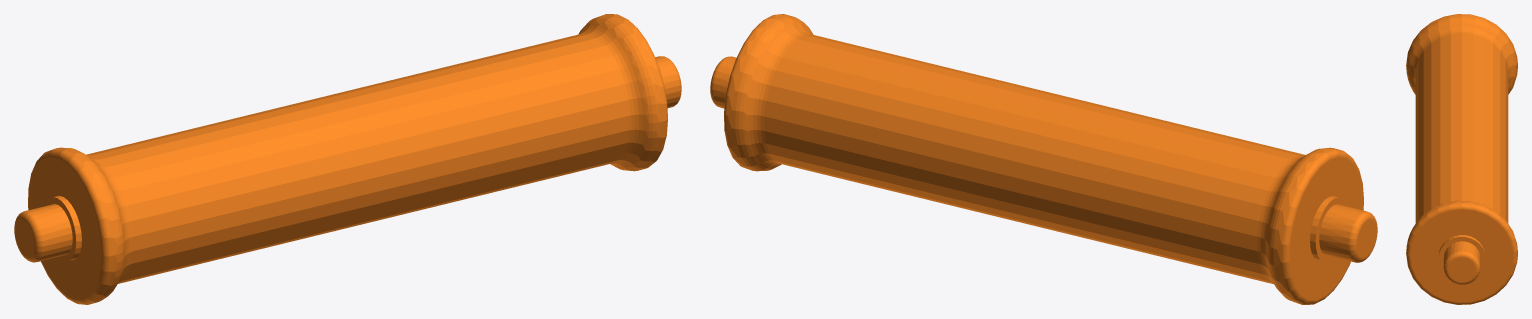
Rendered from FillerRollerSource.dae.
3 renders of one model, left to right at view 1: azimuth 30°, elevation 25°; view 2: azimuth 150°, elevation 25°; view 3: azimuth 270°, elevation 25°, orthographic. The views are drawn at different scales.
Visible parts, largest first — view 1: node0; view 2: node0; view 3: node0.
Boxes of the visible parts, x1=… form: node0: x1=14, y1=14, x2=681, y2=304; node0: x1=710, y1=14, x2=1377, y2=304; node0: x1=1406, y1=14, x2=1517, y2=304.
Size of the model in its own units: 0.112 by 0.024 by 0.024.
